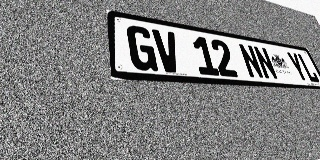1: (190, 35, 220, 76)
2: (209, 38, 238, 77)
G: (126, 24, 158, 71)
L: (296, 53, 320, 83)
N: (237, 43, 265, 79), (252, 46, 279, 80)
V: (152, 29, 183, 73)
Y: (285, 51, 310, 82)
